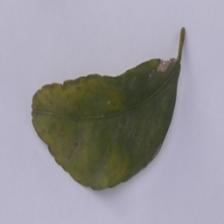black spot: (111, 76, 178, 162)
